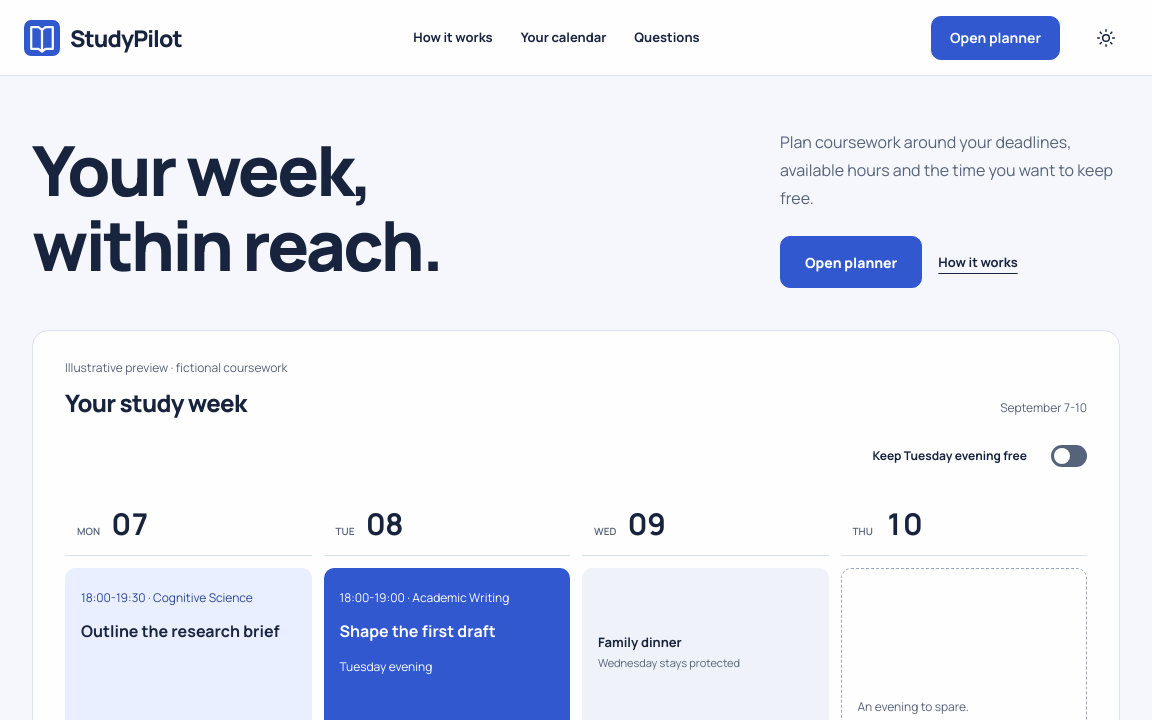
StudyPilot › starts with a specific empty state and labeled planning inputs
Click the button "Open planner" in the row of "Questions" at (996, 38), box [931, 16, 1060, 60]
(page scrolled)
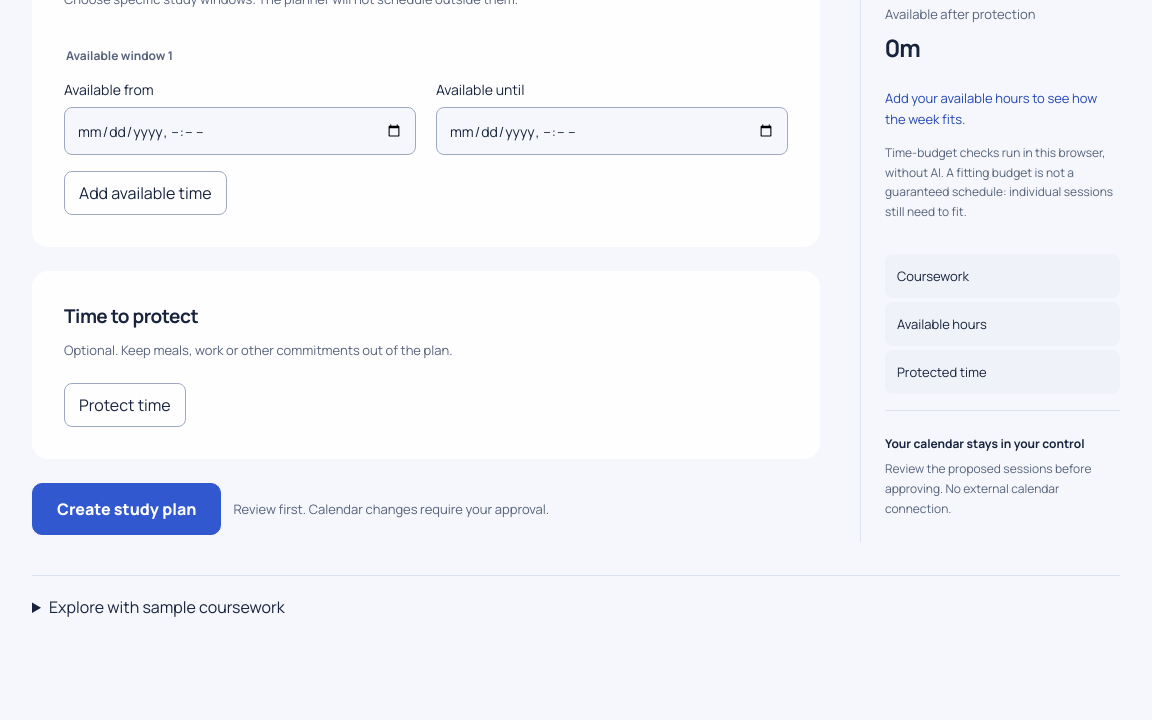
Click the heading "Explore with sample coursework" at (167, 607), box [49, 596, 285, 618]
(page scrolled)
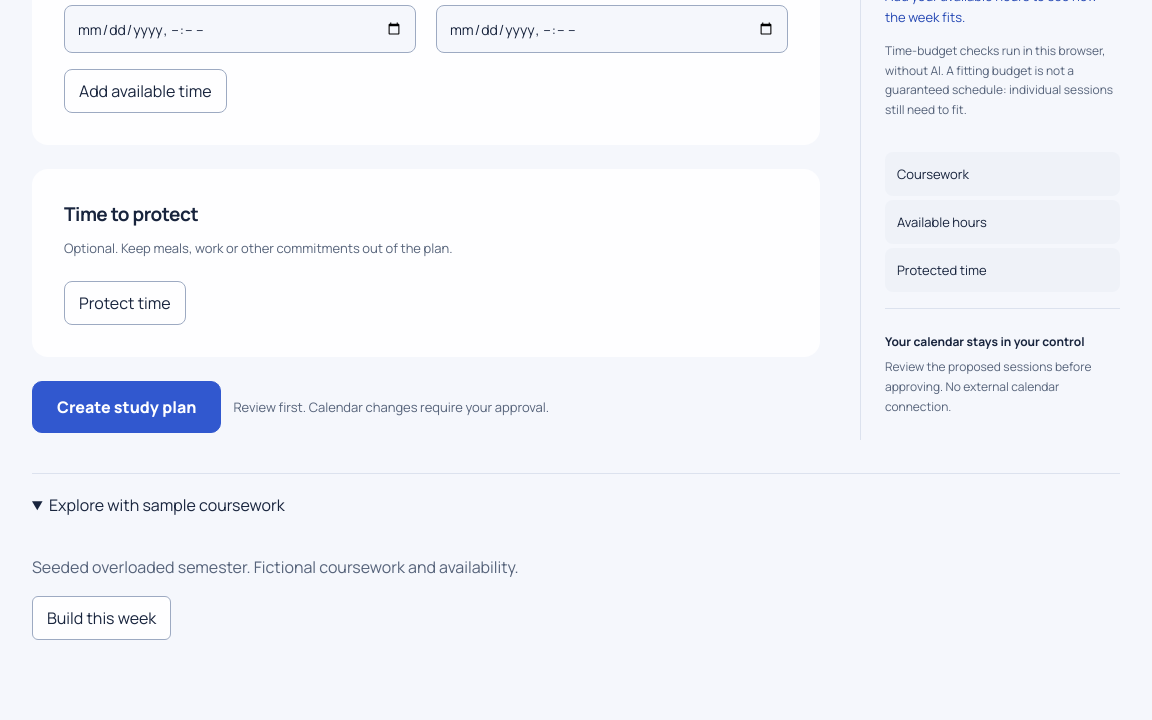
Now the text "Seeded overloaded semester" is shown, box [32, 556, 519, 578]
Now the button "Build this week" is enabled, box [32, 596, 171, 640]
